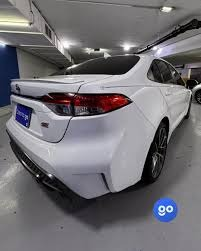car: (3, 34, 196, 207), (20, 28, 201, 153), (22, 10, 201, 108)
